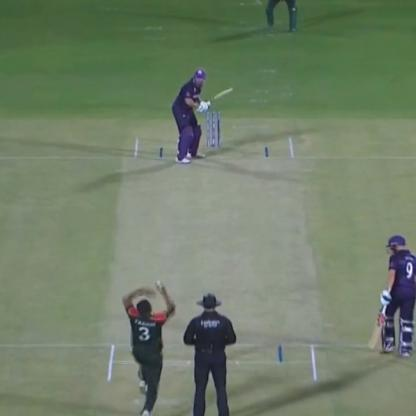pitch: (104, 134, 318, 390)
